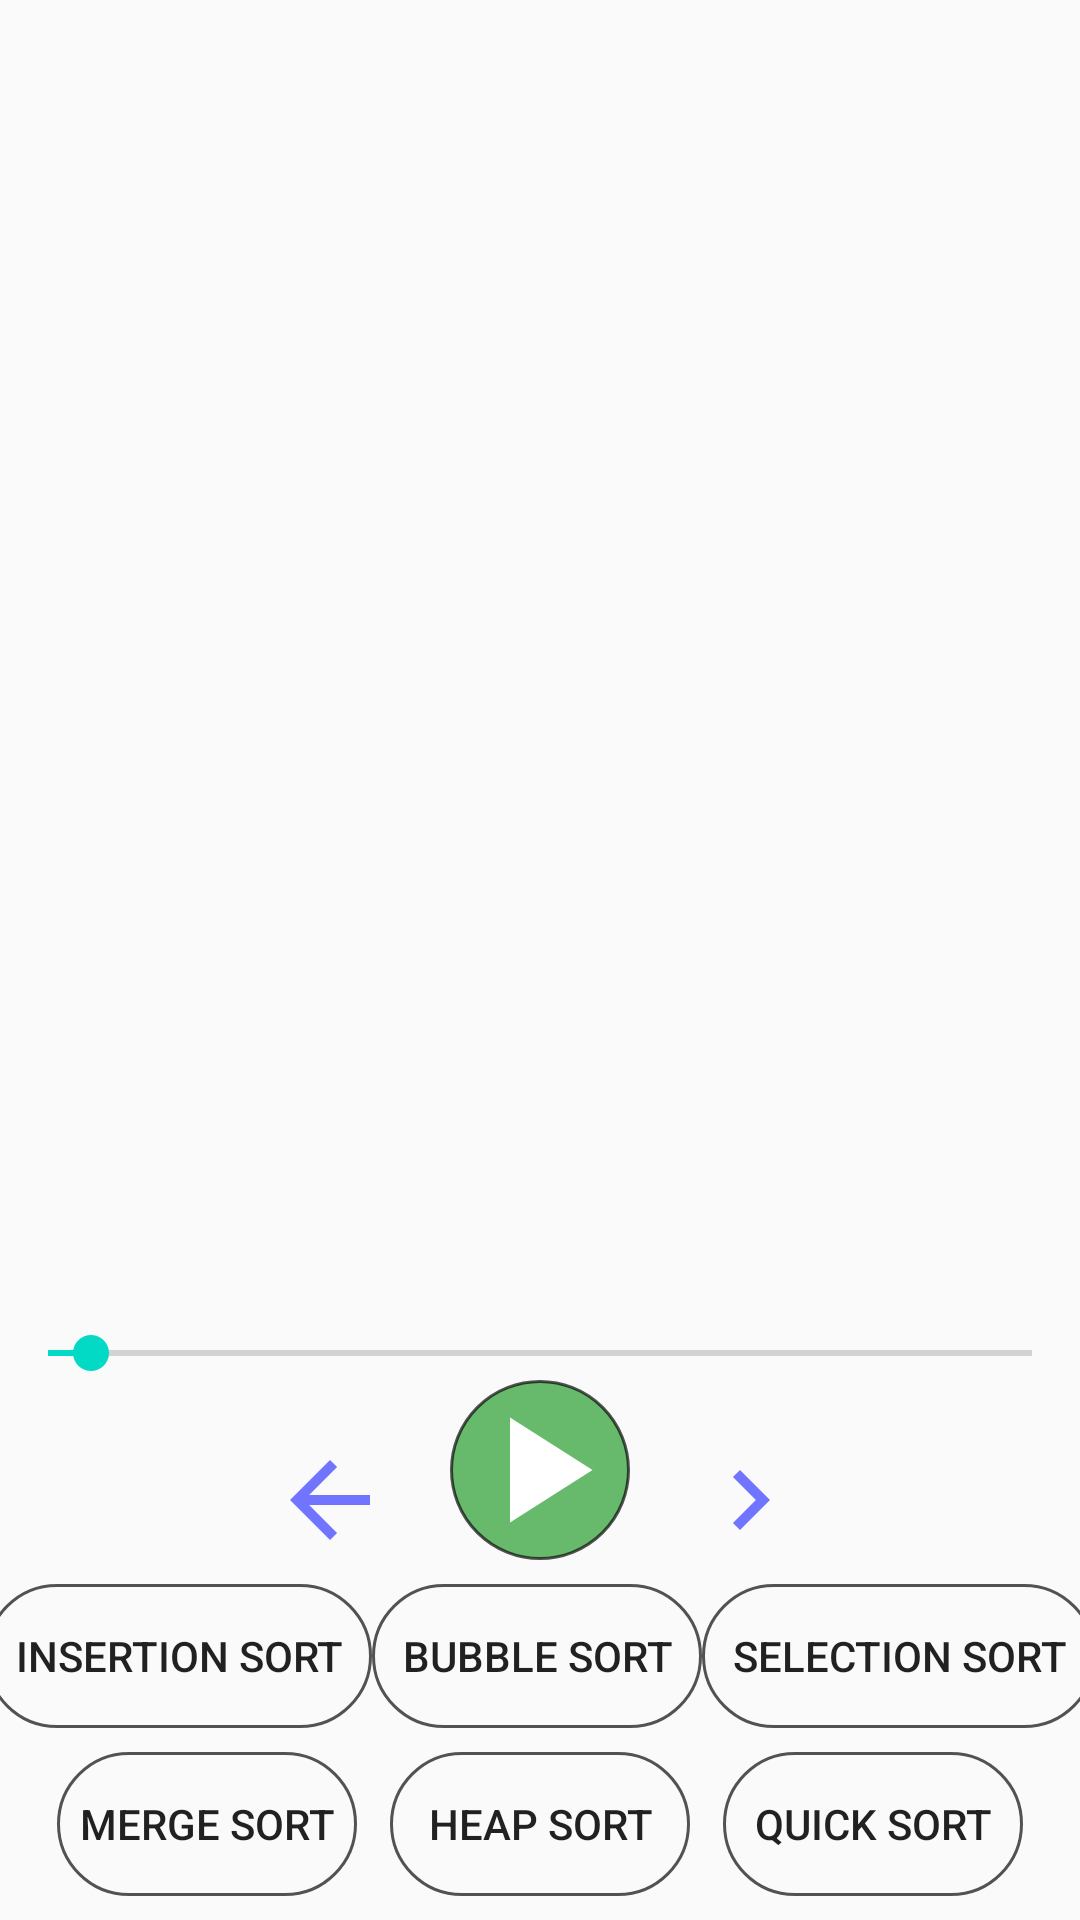

Where icons sit on this 1080px x 1920px app screen, as rect(x1, y1, x2, y2):
next step: rect(733, 1470, 770, 1530)
play: rect(450, 1380, 630, 1560)
